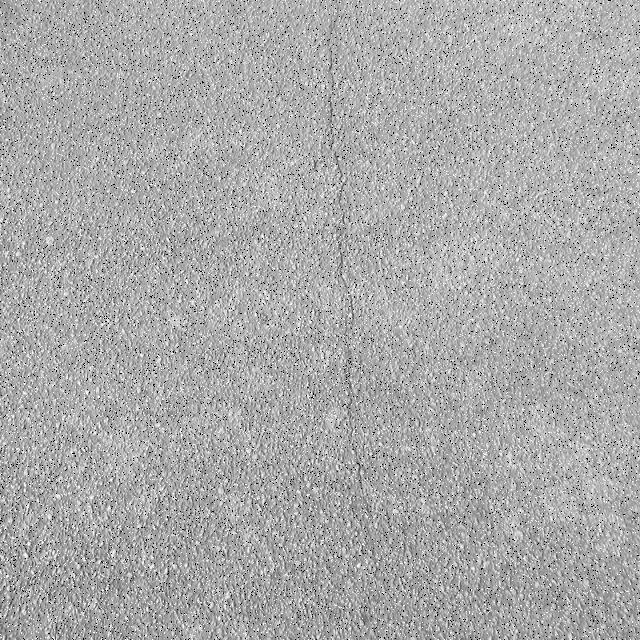minor crack: (6, 23, 160, 629), (504, 15, 640, 640)
moderate crack: (276, 0, 372, 384), (328, 362, 376, 607)
severe crack: (433, 151, 496, 640), (328, 227, 361, 331), (340, 311, 357, 418), (306, 139, 335, 186), (352, 454, 365, 480)
